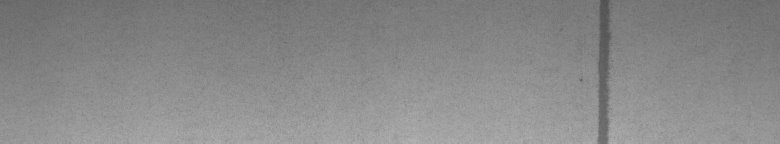hd: (579, 4, 616, 136)
